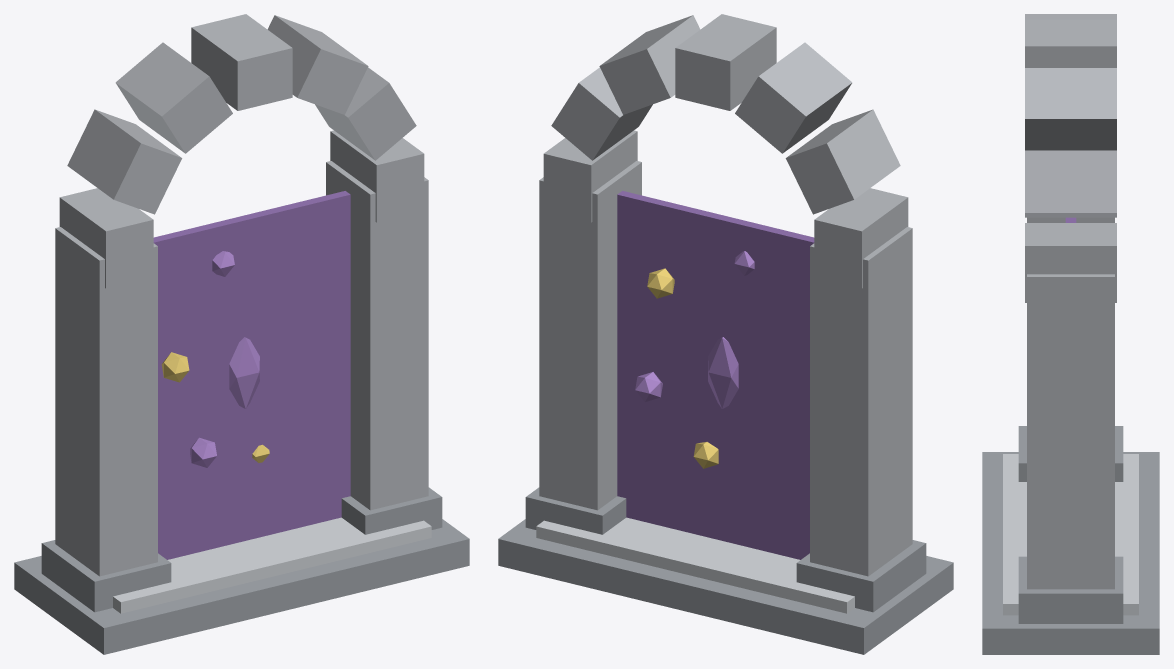
The model's file is animprop_portal_05.glb.
3 renders of one model, left to right at view 1: azimuth 30°, elevation 25°; view 2: azimuth 150°, elevation 25°; view 3: azimuth 270°, elevation 25°, orthographic.
Parts seen in each view (by area): view 1: animprop; view 2: animprop; view 3: animprop.
Boxes of the visible parts, box(x1,y1,x2,y2) form: animprop: box(14, 14, 469, 654); animprop: box(498, 14, 953, 654); animprop: box(982, 14, 1159, 654).
Size of the model in its own units: 2 by 2.82 by 0.85.
